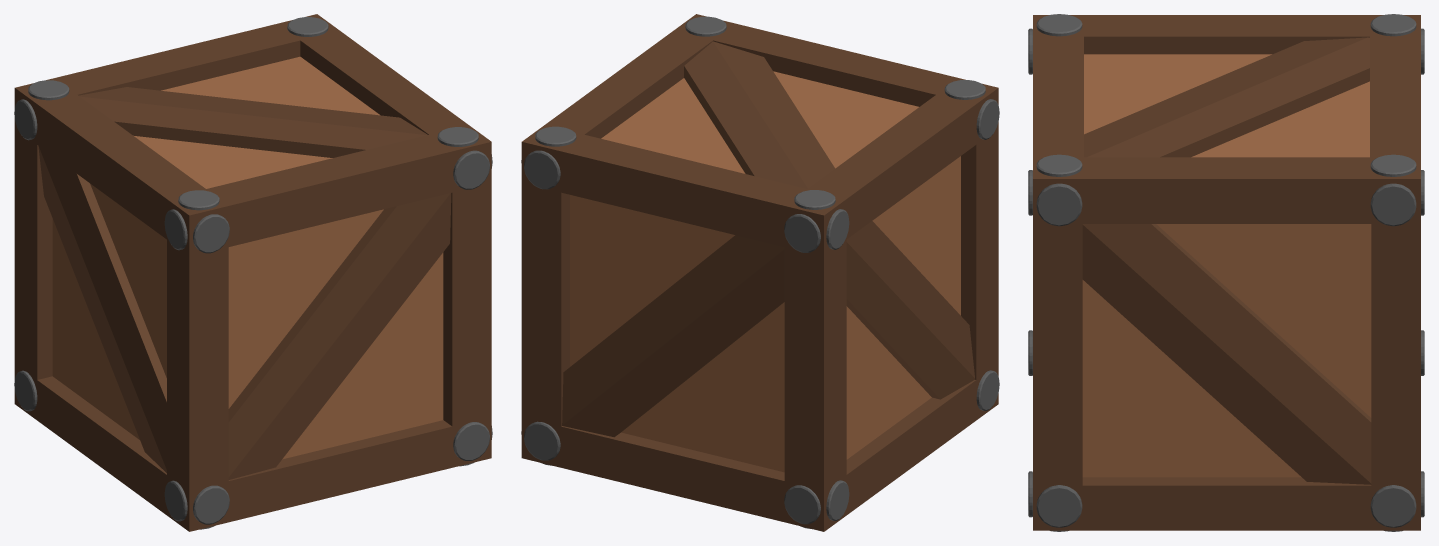
3 renders of one model, left to right at view 1: azimuth 30°, elevation 25°; view 2: azimuth 150°, elevation 25°; view 3: azimuth 270°, elevation 25°, orthographic. The views are drawn at different scales.
Parts seen in each view (by area): view 1: Cube; view 2: Cube; view 3: Cube.
Part boxes in pixels (x1,y1,x2,y2): Cube: (14,14,492,531); Cube: (521,14,999,531); Cube: (1028,14,1424,531).
Bounding box in the file's own units: 204 × 204 × 204.
